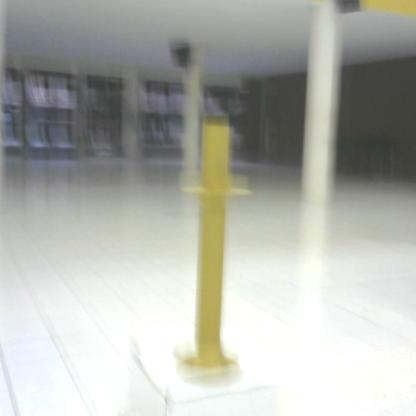pole: (172, 112, 257, 391)
